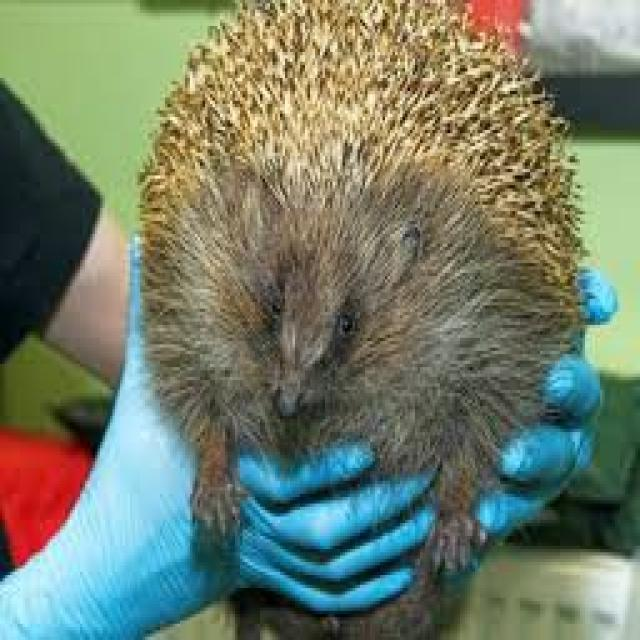Hedgehog: (133, 5, 584, 594)
